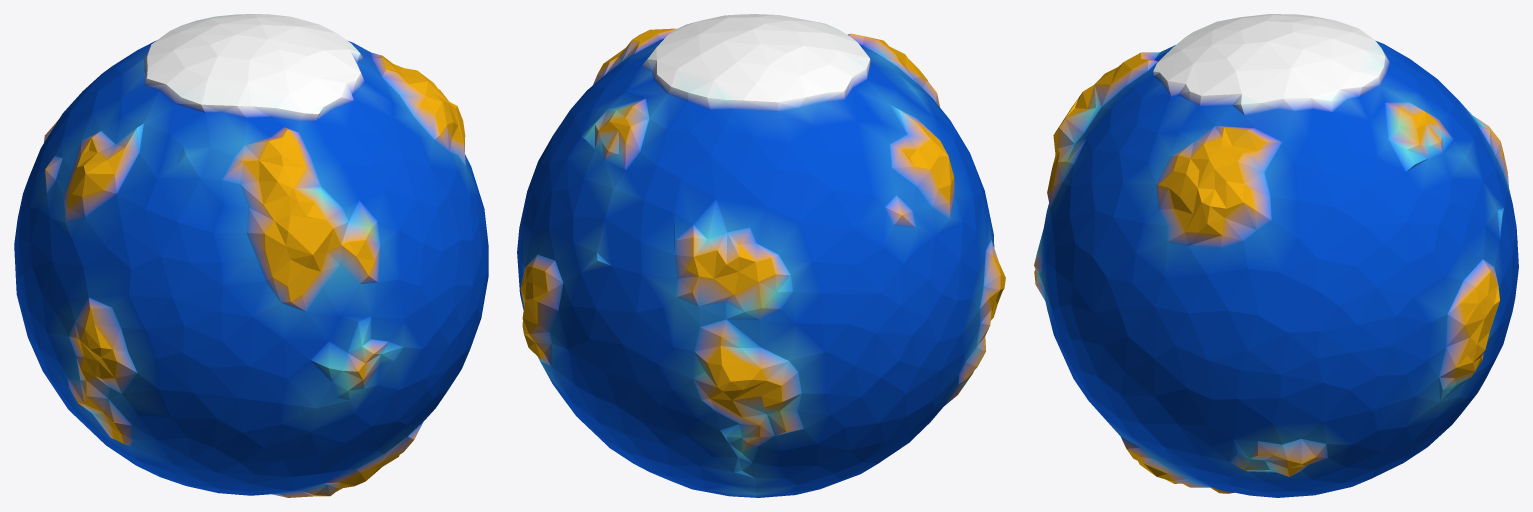
Rendered from planet_37.fbx.
The picture shows the model from 3 angles, left to right: view 1: azimuth 30°, elevation 25°; view 2: azimuth 150°, elevation 25°; view 3: azimuth 270°, elevation 25°; orthographic projection.
Visible parts, largest first — view 1: file1; view 2: file1; view 3: file1.
Boxes of the visible parts, left/top/right/bottom form: file1: left=14, top=14, right=488, bottom=497; file1: left=517, top=14, right=1005, bottom=497; file1: left=1034, top=14, right=1518, bottom=497.
Bounding box in the file's own units: 2.01 × 2.04 × 2.03.
